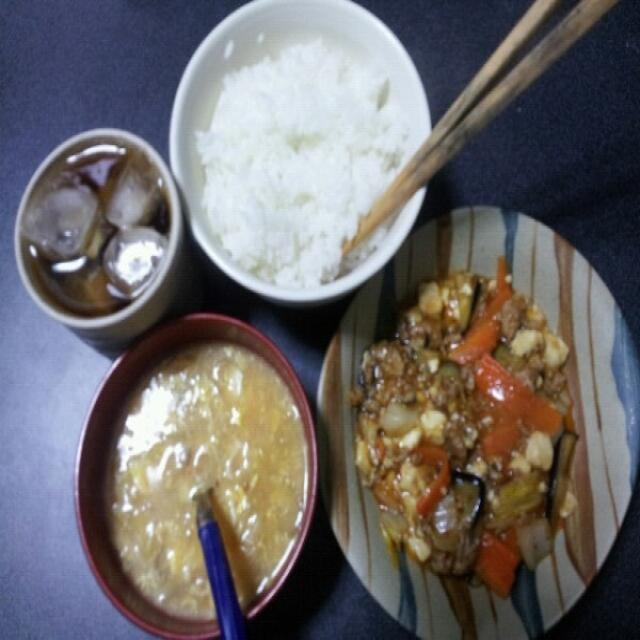Rice: (198, 27, 402, 277)
